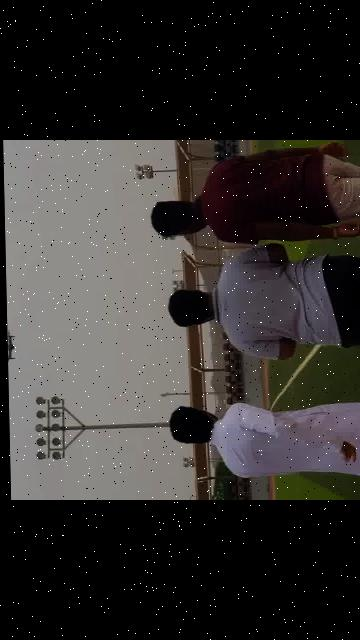drone: (6, 326, 16, 369)
